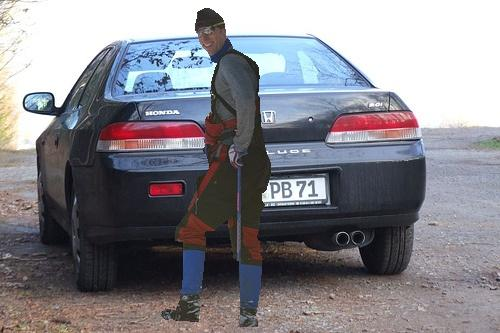tampered: (162, 9, 271, 327)
